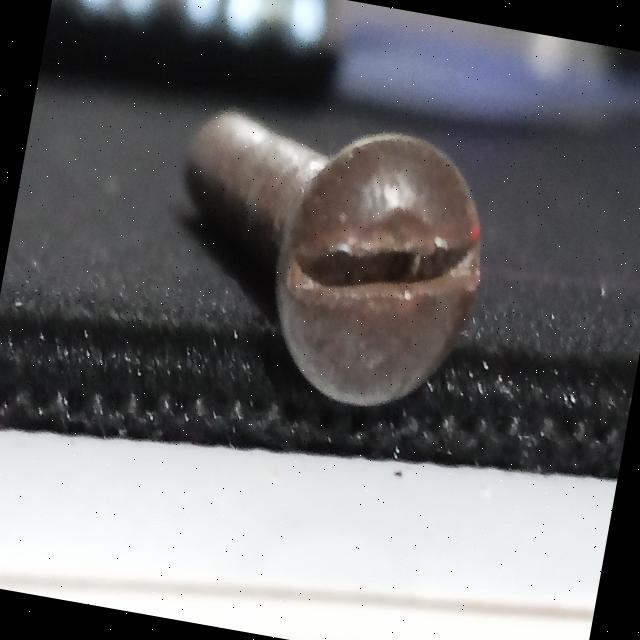Slotted: (248, 136, 512, 438)
